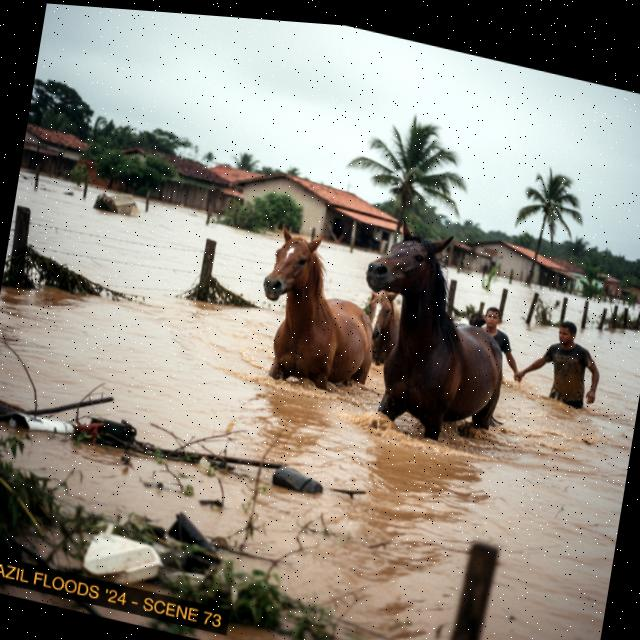civilian: (508, 304, 614, 420), (473, 301, 533, 393)
horse: (336, 203, 529, 467), (243, 218, 396, 414), (352, 269, 419, 381)
